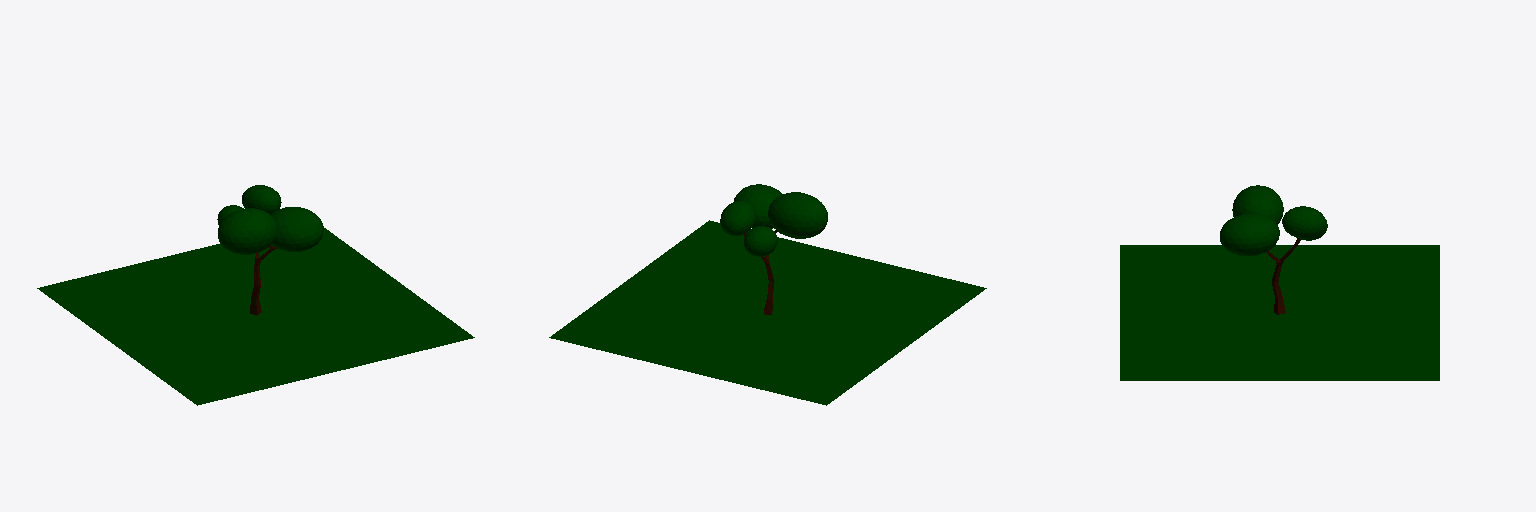
File: derevo.obj
The picture shows the model from 3 angles: view 1: azimuth 30°, elevation 25°; view 2: azimuth 150°, elevation 25°; view 3: azimuth 270°, elevation 25°; orthographic projection.
Parts seen in each view (by area): view 1: Плоскость, Icosphere.003_Icosphere.004, Icosphere.002_Icosphere.003, Icosphere; view 2: Плоскость, Icosphere.003_Icosphere.004, Icosphere.002_Icosphere.003, Icosphere, Icosphere.001_Icosphere.002; view 3: Плоскость, Icosphere.002_Icosphere.003, Icosphere.003_Icosphere.004, Icosphere, Cube_Cube.002.
Boxes of the visible parts, x1,y1,x2,y2 form: Плоскость: [37, 228, 474, 405]; Icosphere.003_Icosphere.004: [218, 208, 276, 254]; Icosphere.002_Icosphere.003: [271, 207, 323, 251]; Icosphere: [242, 185, 281, 214]; Плоскость: [549, 220, 986, 405]; Icosphere.003_Icosphere.004: [768, 192, 827, 238]; Icosphere.002_Icosphere.003: [734, 184, 782, 228]; Icosphere: [720, 201, 755, 235]; Icosphere.001_Icosphere.002: [744, 226, 777, 256]; Плоскость: [1120, 245, 1439, 380]; Icosphere.002_Icosphere.003: [1220, 213, 1279, 255]; Icosphere.003_Icosphere.004: [1232, 185, 1283, 224]; Icosphere: [1282, 206, 1325, 238]; Cube_Cube.002: [1266, 238, 1300, 314].
Size of the model in its own units: 20.41 by 8.08 by 20.41.